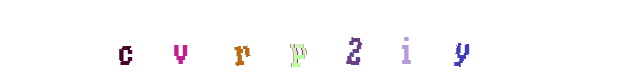2: (272, 0, 352, 80)
C: (85, 0, 165, 80)
I: (321, 0, 401, 80)
P: (249, 0, 329, 80)
R: (201, 0, 281, 80)
V: (157, 0, 237, 80)
Y: (340, 0, 420, 80)
